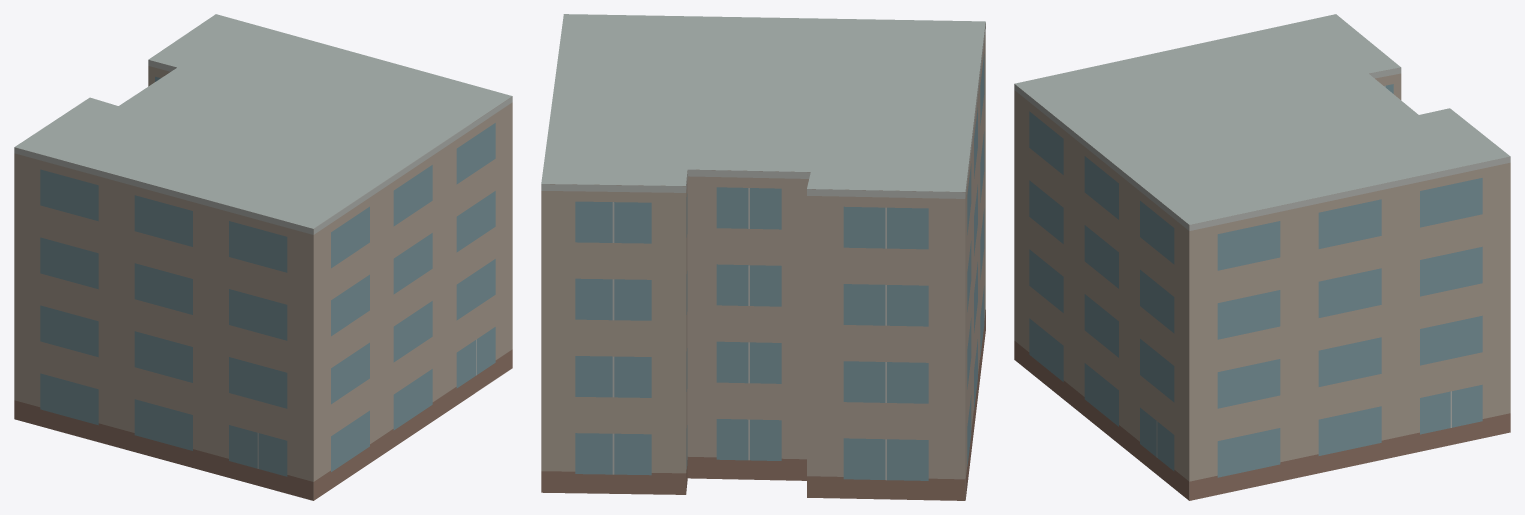
The model's file is survey-upis-32924654.glb.
The picture shows the model from 3 angles, left to right: view 1: azimuth 30°, elevation 25°; view 2: azimuth 150°, elevation 25°; view 3: azimuth 270°, elevation 25°; orthographic projection. The views are drawn at different scales.
Parts seen in each view (by area): view 1: survey-upis-32924654.tmp; view 2: survey-upis-32924654.tmp; view 3: survey-upis-32924654.tmp.
Boxes of the visible parts, x1=… form: survey-upis-32924654.tmp: x1=14, y1=14, x2=512, y2=500; survey-upis-32924654.tmp: x1=541, y1=14, x2=985, y2=500; survey-upis-32924654.tmp: x1=1014, y1=14, x2=1510, y2=500.
Bounding box in the file's own units: 17.88 × 10.9 × 17.78.
